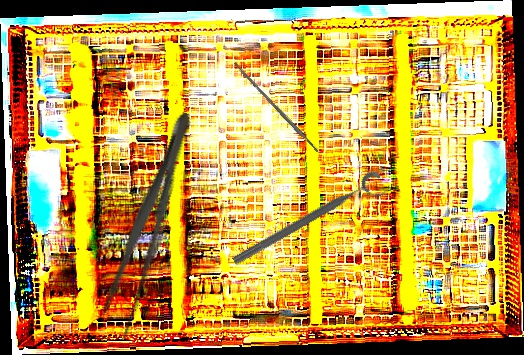Dressing Forceps: (93, 106, 204, 343)
Fixation Ring: (229, 168, 390, 278)
Scalpel Handle: (232, 61, 320, 154)
